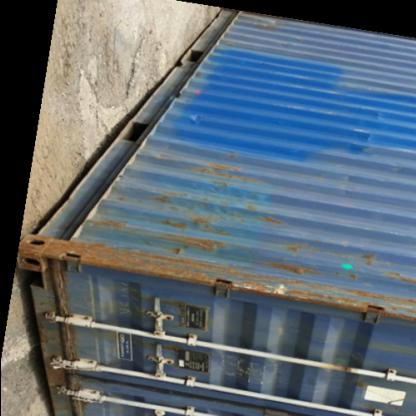Damage: (234, 251, 415, 325), (145, 210, 219, 254), (208, 345, 276, 391), (194, 152, 258, 194), (358, 101, 394, 156), (101, 282, 140, 328), (89, 204, 135, 236), (184, 107, 208, 125)
